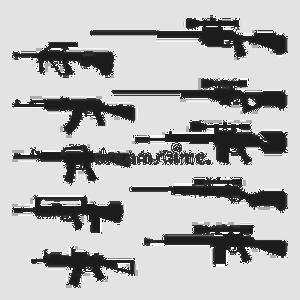sniper: (84, 16, 294, 56), (140, 223, 292, 271), (128, 120, 292, 162), (128, 176, 288, 218), (108, 78, 292, 112)
